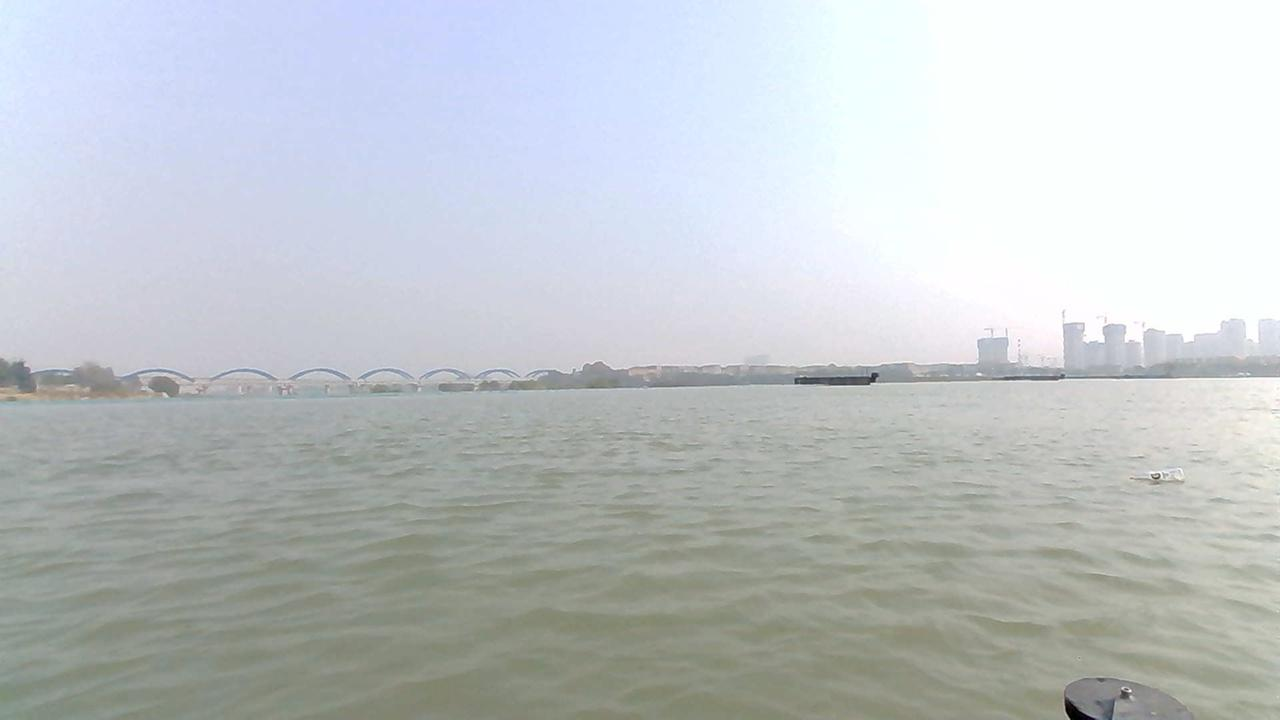bottle: (1130, 467, 1186, 482)
